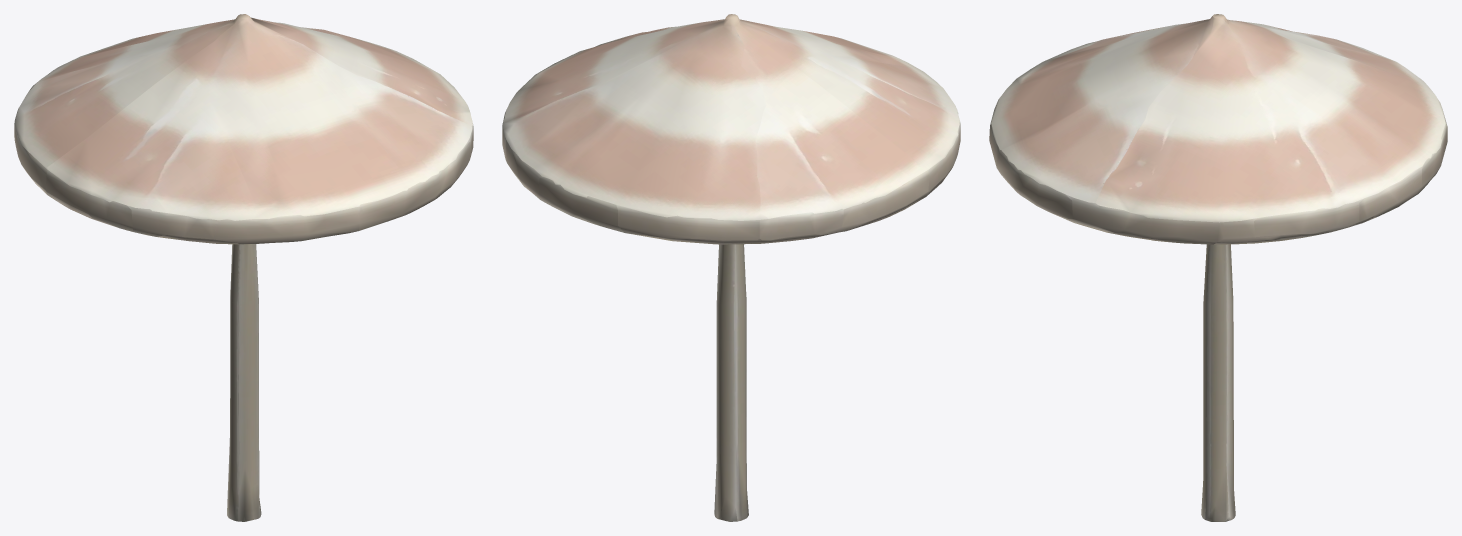
File: parasol.glb
3 views of the same model, side by side, from view 1: azimuth 30°, elevation 25°; view 2: azimuth 150°, elevation 25°; view 3: azimuth 270°, elevation 25° (orthographic).
Parts seen in each view (by area): view 1: tmpcwcgv73b.ply; view 2: tmpcwcgv73b.ply; view 3: tmpcwcgv73b.ply.
Boxes of the visible parts, x1=… form: tmpcwcgv73b.ply: x1=14, y1=14, x2=473, y2=521; tmpcwcgv73b.ply: x1=502, y1=14, x2=960, y2=521; tmpcwcgv73b.ply: x1=989, y1=14, x2=1447, y2=521.
Bounding box in the file's own units: 0.8172 × 0.9853 × 0.8199.
Materials: 1 (1 with a texture image).
